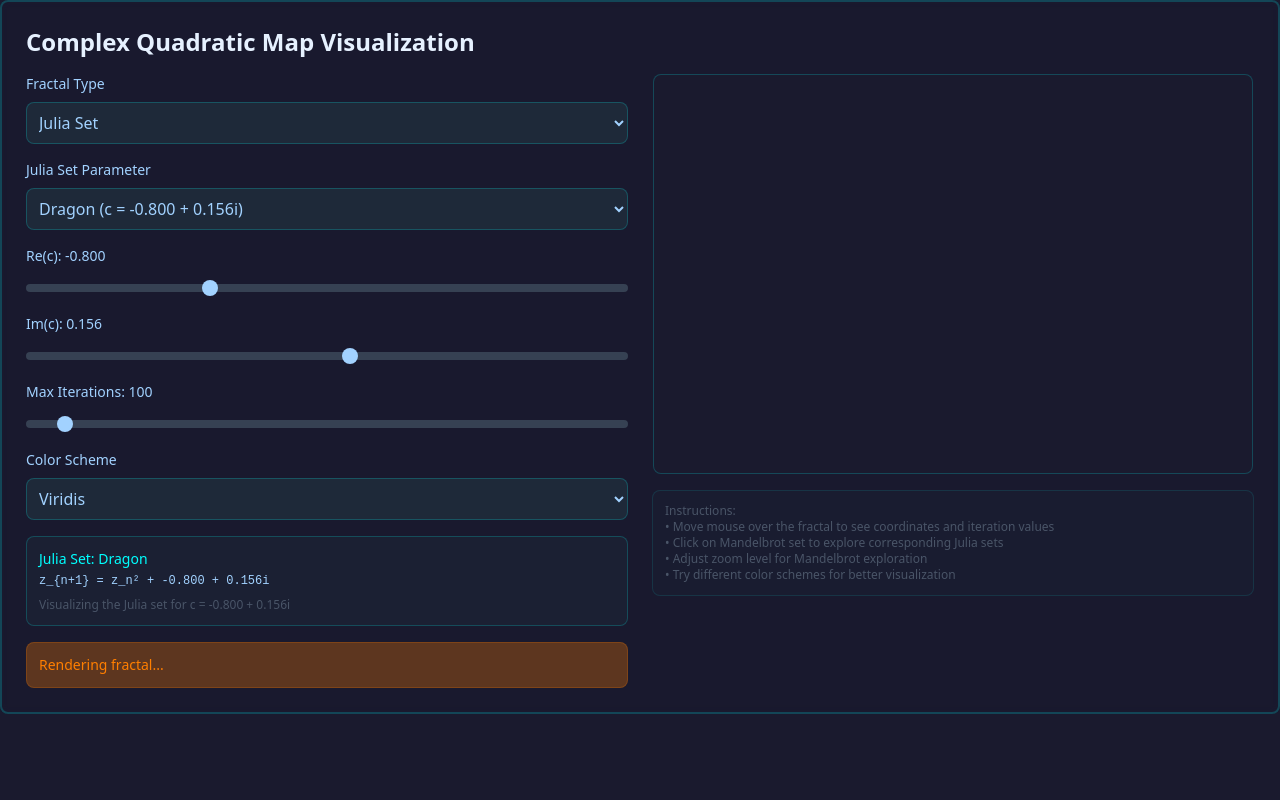
ComplexMapVisualization ParamSlider wiring › registers Zoom first in Mandelbrot mode; Max Iterations opted out
Select "Mandelbrot Set" in the dropdown showing "Julia Set" below "Fractal Type" at {"x": 327, "y": 123}, box x1=26 y1=102 x2=628 y2=144
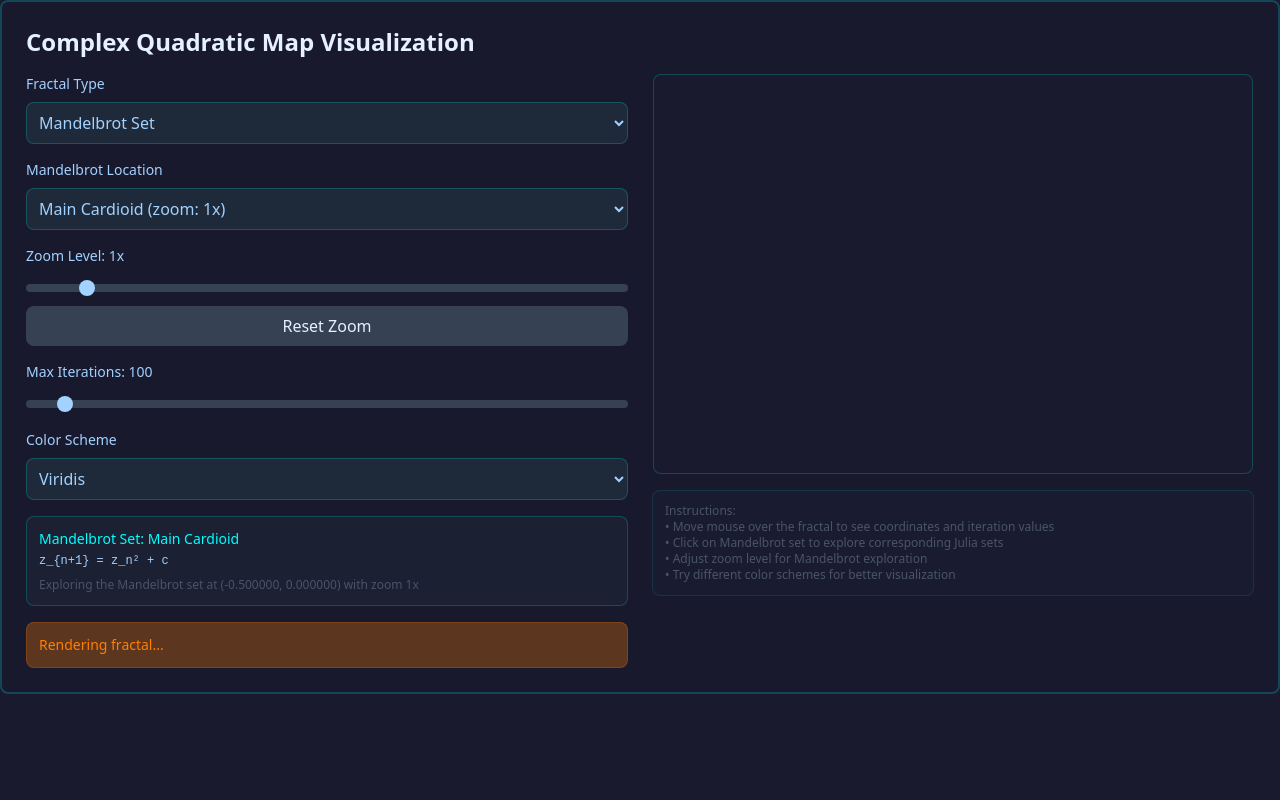
Expected: the text "Re(c):" is gone
